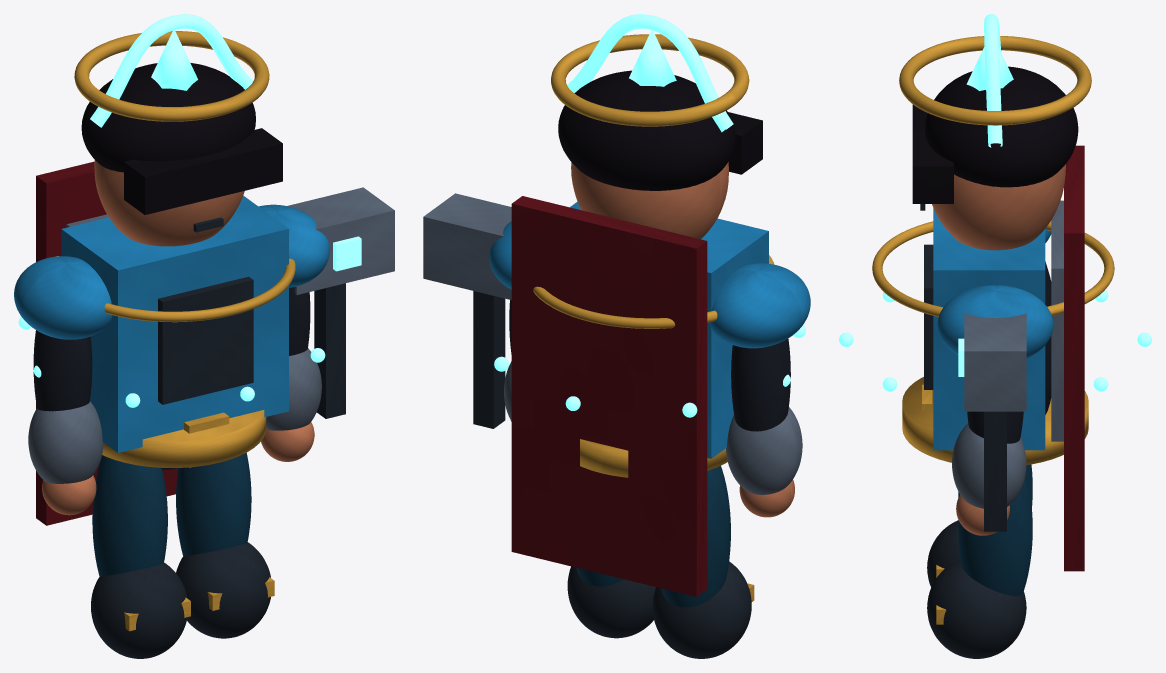
The model's file is Transcendence.glb.
3 views of the same model, side by side, from view 1: azimuth 30°, elevation 25°; view 2: azimuth 150°, elevation 25°; view 3: azimuth 270°, elevation 25° (orthographic). The views are drawn at different scales.
Visible parts, largest first — view 1: ChestPlate, Hair, ChestInset, HairFringe, Leg, Boot, Boot.001, Leg.001, Shoulder, HammerHead, CrownRing, Cape (+15 smaller); view 2: Cape, Hair, HammerHead, Shoulder, Head, ChestPlate, CrownRing, Boot, Arm, Gauntlet, Boot.001, HammerHandle (+8 smaller); view 3: Hair, ChestPlate, Cape, Head, Boot.001, HammerHead, CrownRing, Leg.001, Shoulder.001, Gauntlet.001, WaistGuard, BackArmor (+10 smaller).
Part boxes in pixels (x1,y1,x2,y2): ChestPlate: [61, 195, 288, 452]; Hair: [81, 63, 255, 172]; ChestInset: [158, 276, 253, 404]; HairFringe: [124, 128, 282, 214]; Leg: [92, 455, 167, 576]; Boot: [91, 562, 187, 658]; Boot.001: [176, 542, 270, 638]; Leg.001: [176, 453, 251, 556]; Shoulder: [14, 256, 112, 339]; HammerHead: [287, 187, 394, 294]; CrownRing: [74, 31, 269, 121]; Cape: [36, 161, 177, 525]; Cape: [511, 196, 707, 596]; Hair: [558, 70, 735, 190]; HammerHead: [423, 193, 511, 299]; Shoulder: [709, 263, 810, 348]; Head: [571, 162, 728, 239]; ChestPlate: [570, 202, 768, 458]; CrownRing: [551, 34, 749, 126]; Boot: [652, 561, 751, 658]; Arm: [731, 339, 790, 431]; Gauntlet: [726, 407, 802, 494]; Boot.001: [567, 566, 655, 638]; HammerHandle: [473, 291, 505, 428]; Hair: [925, 66, 1078, 187]; ChestPlate: [933, 208, 1045, 450]; Cape: [1064, 145, 1084, 571]; Head: [932, 164, 1065, 250]; Boot.001: [927, 560, 1026, 658]; HammerHead: [964, 313, 1026, 411]; CrownRing: [899, 36, 1091, 125]; Leg.001: [958, 474, 1032, 596]; Shoulder.001: [937, 285, 1053, 357]; Gauntlet.001: [952, 423, 1026, 508]; WaistGuard: [902, 377, 1088, 464]; BackArmor: [1051, 200, 1063, 441].
Size of the model in its own units: 1.96 by 3.27 by 1.51.
Materials: 12 (9 with a texture image).
